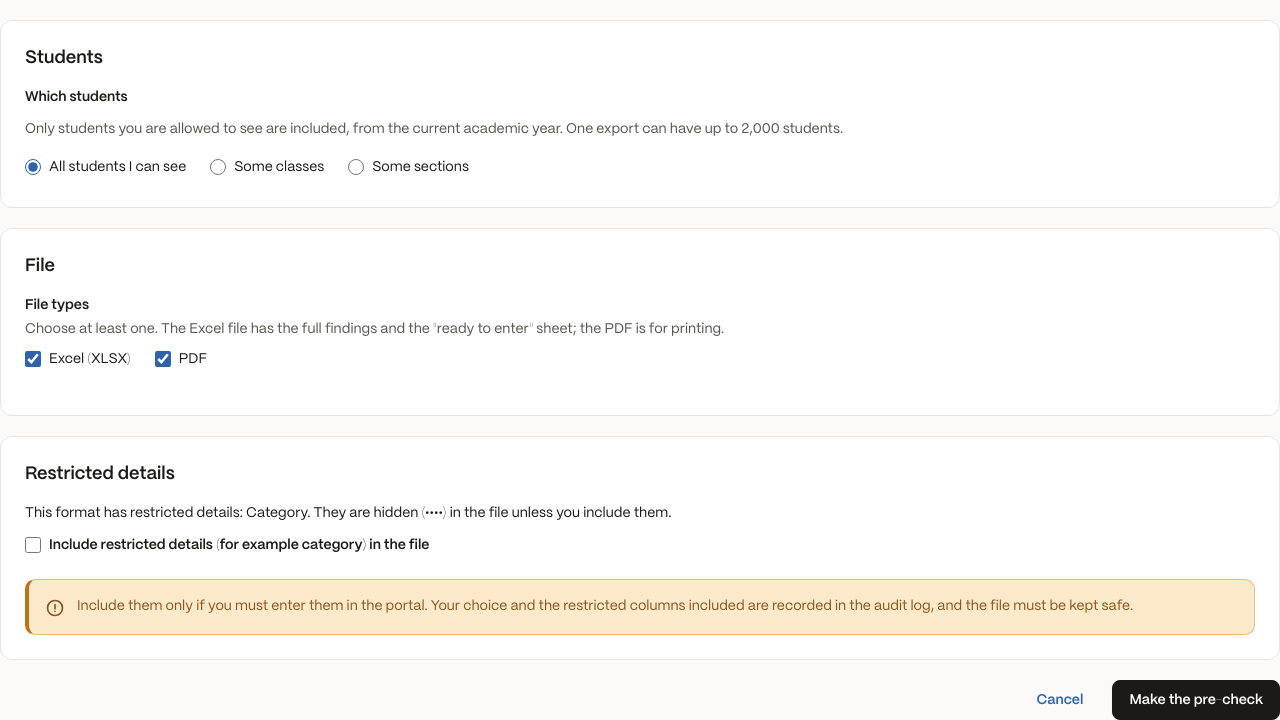
Test case: new pre-check (US-501 AC4, FR-EXP-001..004, SEC-005) › explains 403 sensitive_not_allowed in plain words
The image size is (1280, 720).
(page scrolled)
What coordinates should you click on to do the following:
click the checkbox labelled "Include restricted"
I would click on:
 (33, 545)
Its box is [25,537,41,553].
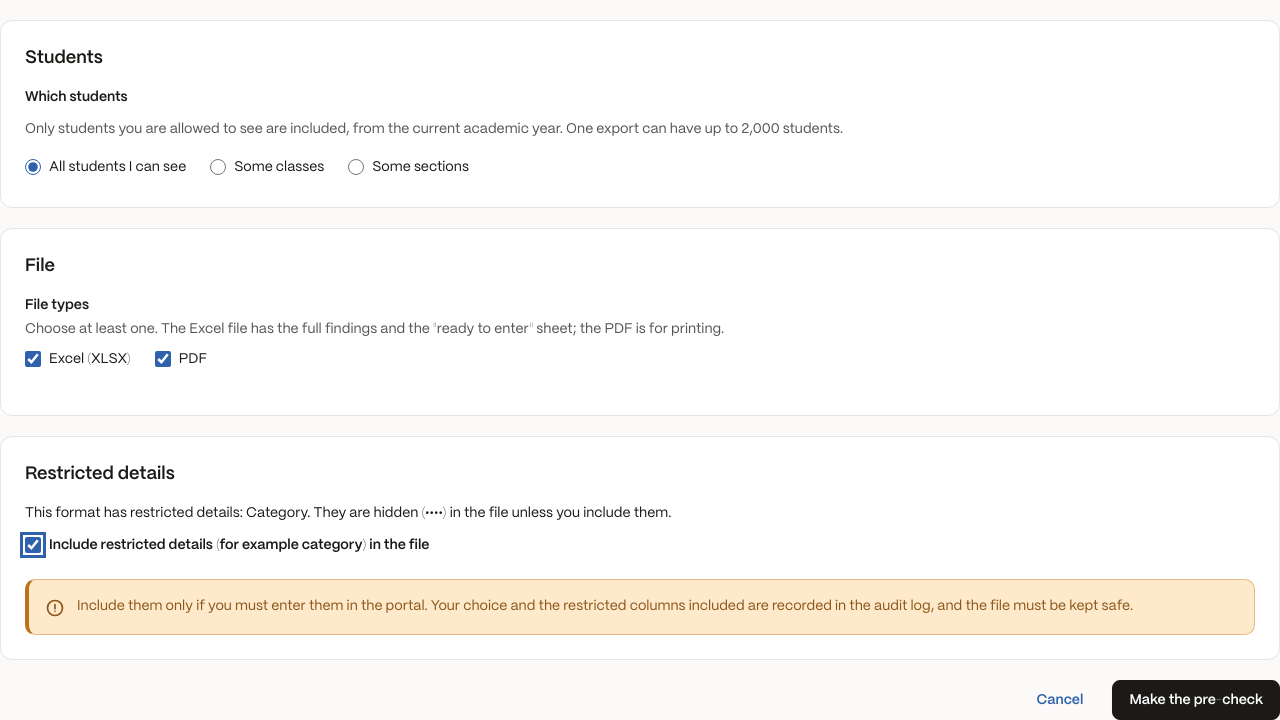
What coordinates should you click on to do the following:
click the button "Make the pre-check"
I would click on:
 (1196, 700)
Its box is [1112,680,1279,719].
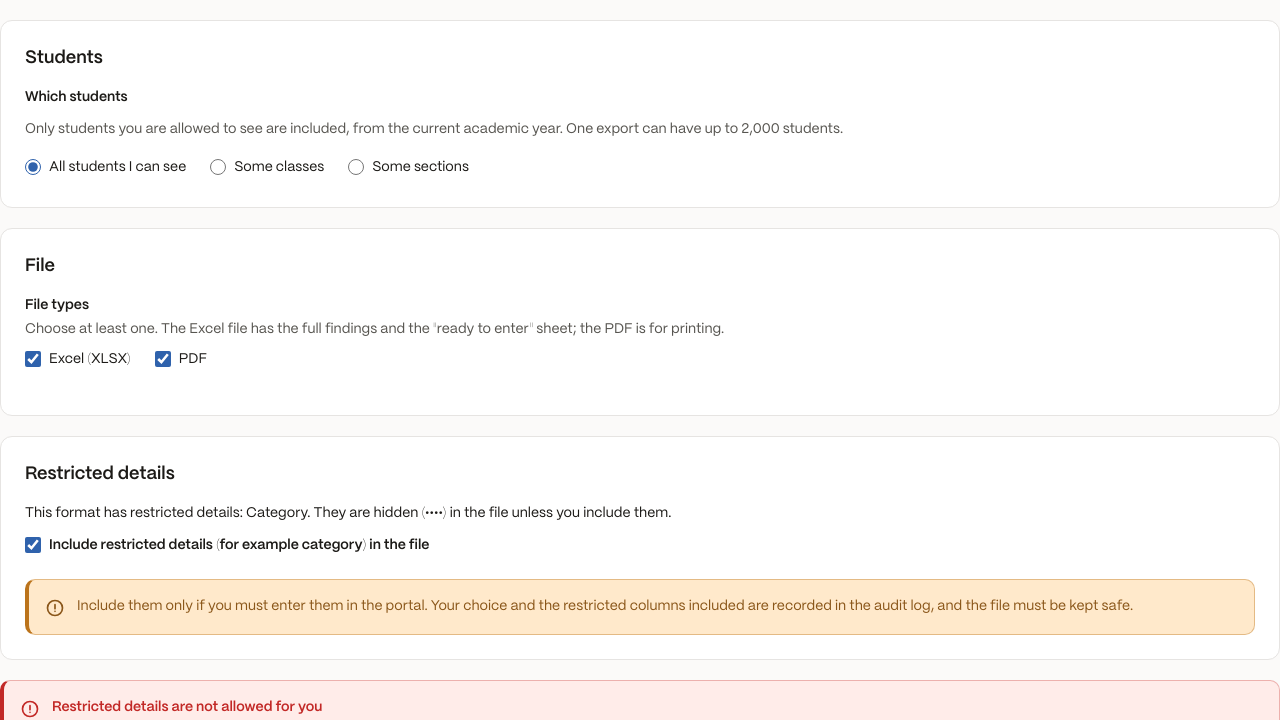
Result: the text "Restricted details are not allowed for you" is shown at [52,700,322,714]
